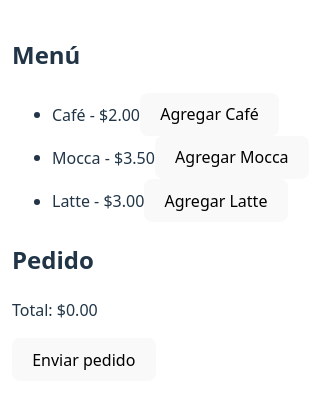
it: agrega un producto al pedido
Click the button "Agregar Café": (210, 114) [140, 93, 279, 136]
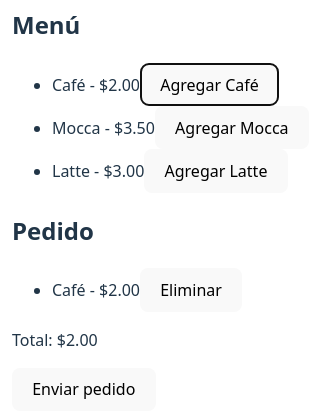
Expected: the list named "pedido" shows "Café", [52, 279, 86, 301]
